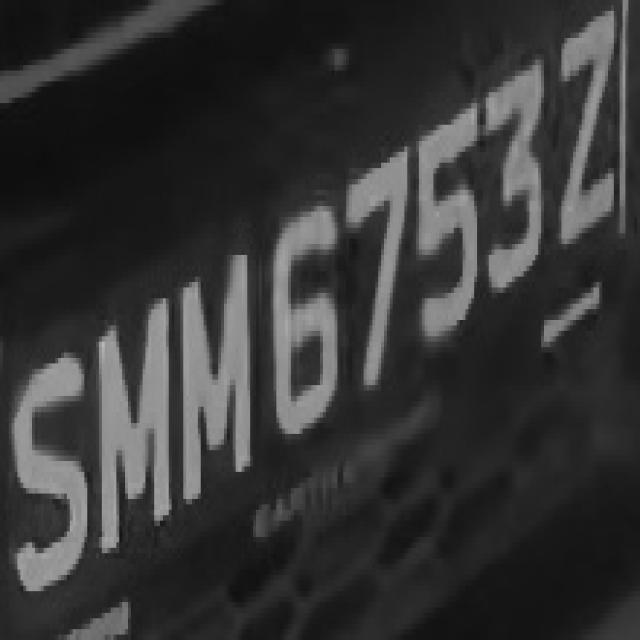3: (465, 65, 547, 293)
5: (401, 87, 489, 358)
6: (262, 184, 346, 445)
7: (338, 135, 408, 434)
M: (166, 238, 265, 510), (87, 288, 175, 564)
S: (3, 320, 93, 602)
Z: (546, 0, 634, 260)
